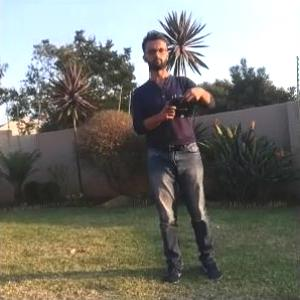follow: (129, 24, 228, 291)
